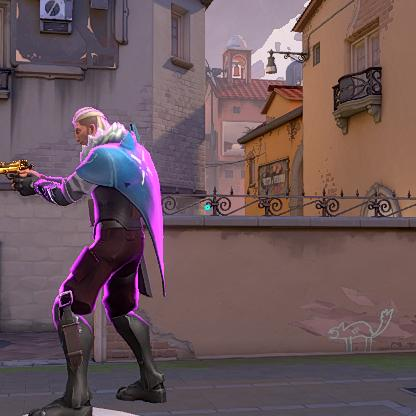enemyBody: (101, 150, 143, 223)
enemyHead: (73, 120, 99, 143)
